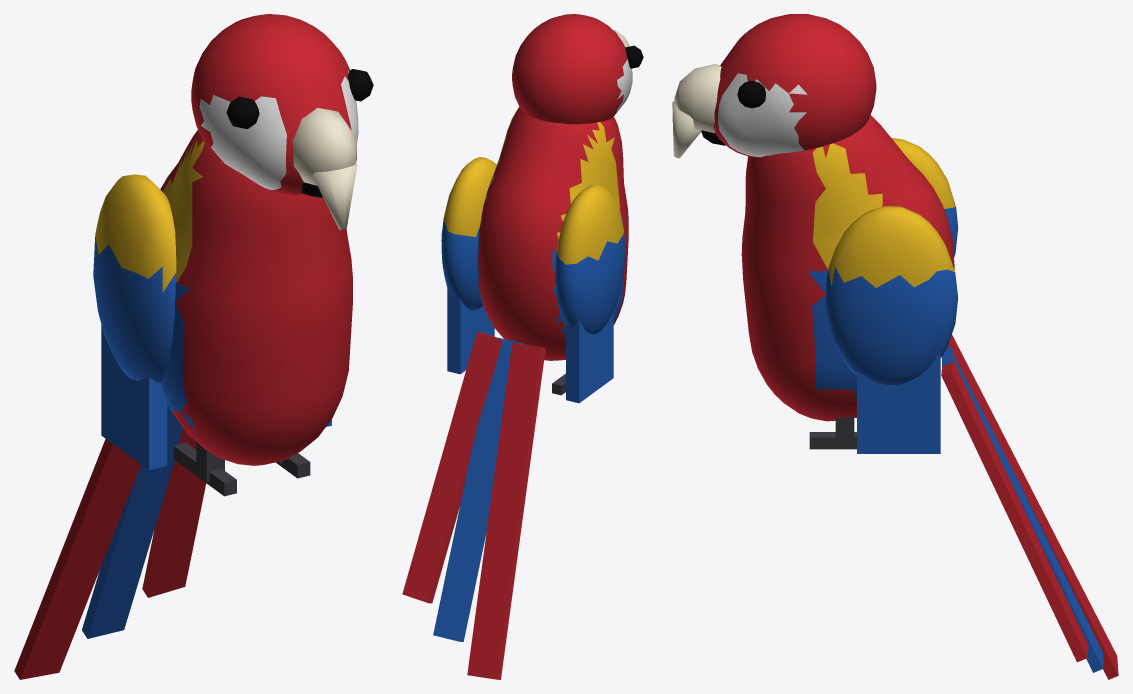
File: Pet_Parrot_Fly.glb
3 views of the same model, side by side, from view 1: azimuth 30°, elevation 25°; view 2: azimuth 150°, elevation 25°; view 3: azimuth 270°, elevation 25° (orthographic). The views are drawn at different scales.
Parts seen in each view (by area): view 1: Pet_Parrot_Fly, ParrotFly_Head, ParrotFly_Wing_R; view 2: Pet_Parrot_Fly, ParrotFly_Wing_R, ParrotFly_Head, ParrotFly_Wing_L; view 3: Pet_Parrot_Fly, ParrotFly_Wing_L, ParrotFly_Head, ParrotFly_Wing_R.
Boxes of the visible parts, box(x1,y1,x2,y2) form: Pet_Parrot_Fly: box(14, 130, 352, 679); ParrotFly_Head: box(191, 14, 373, 229); ParrotFly_Wing_R: box(93, 174, 176, 470); Pet_Parrot_Fly: box(402, 106, 628, 679); ParrotFly_Wing_R: box(555, 185, 625, 403); ParrotFly_Head: box(512, 14, 643, 124); ParrotFly_Wing_L: box(441, 157, 496, 374); Pet_Parrot_Fly: box(741, 115, 1118, 679); ParrotFly_Wing_L: box(825, 206, 957, 453); ParrotFly_Head: box(672, 14, 876, 158); ParrotFly_Wing_R: box(891, 138, 958, 257).
Size of the model in its own units: 0.1195 by 0.4022 by 0.2405.
